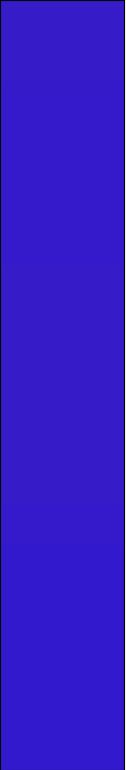safe: (9, 9, 119, 760)
